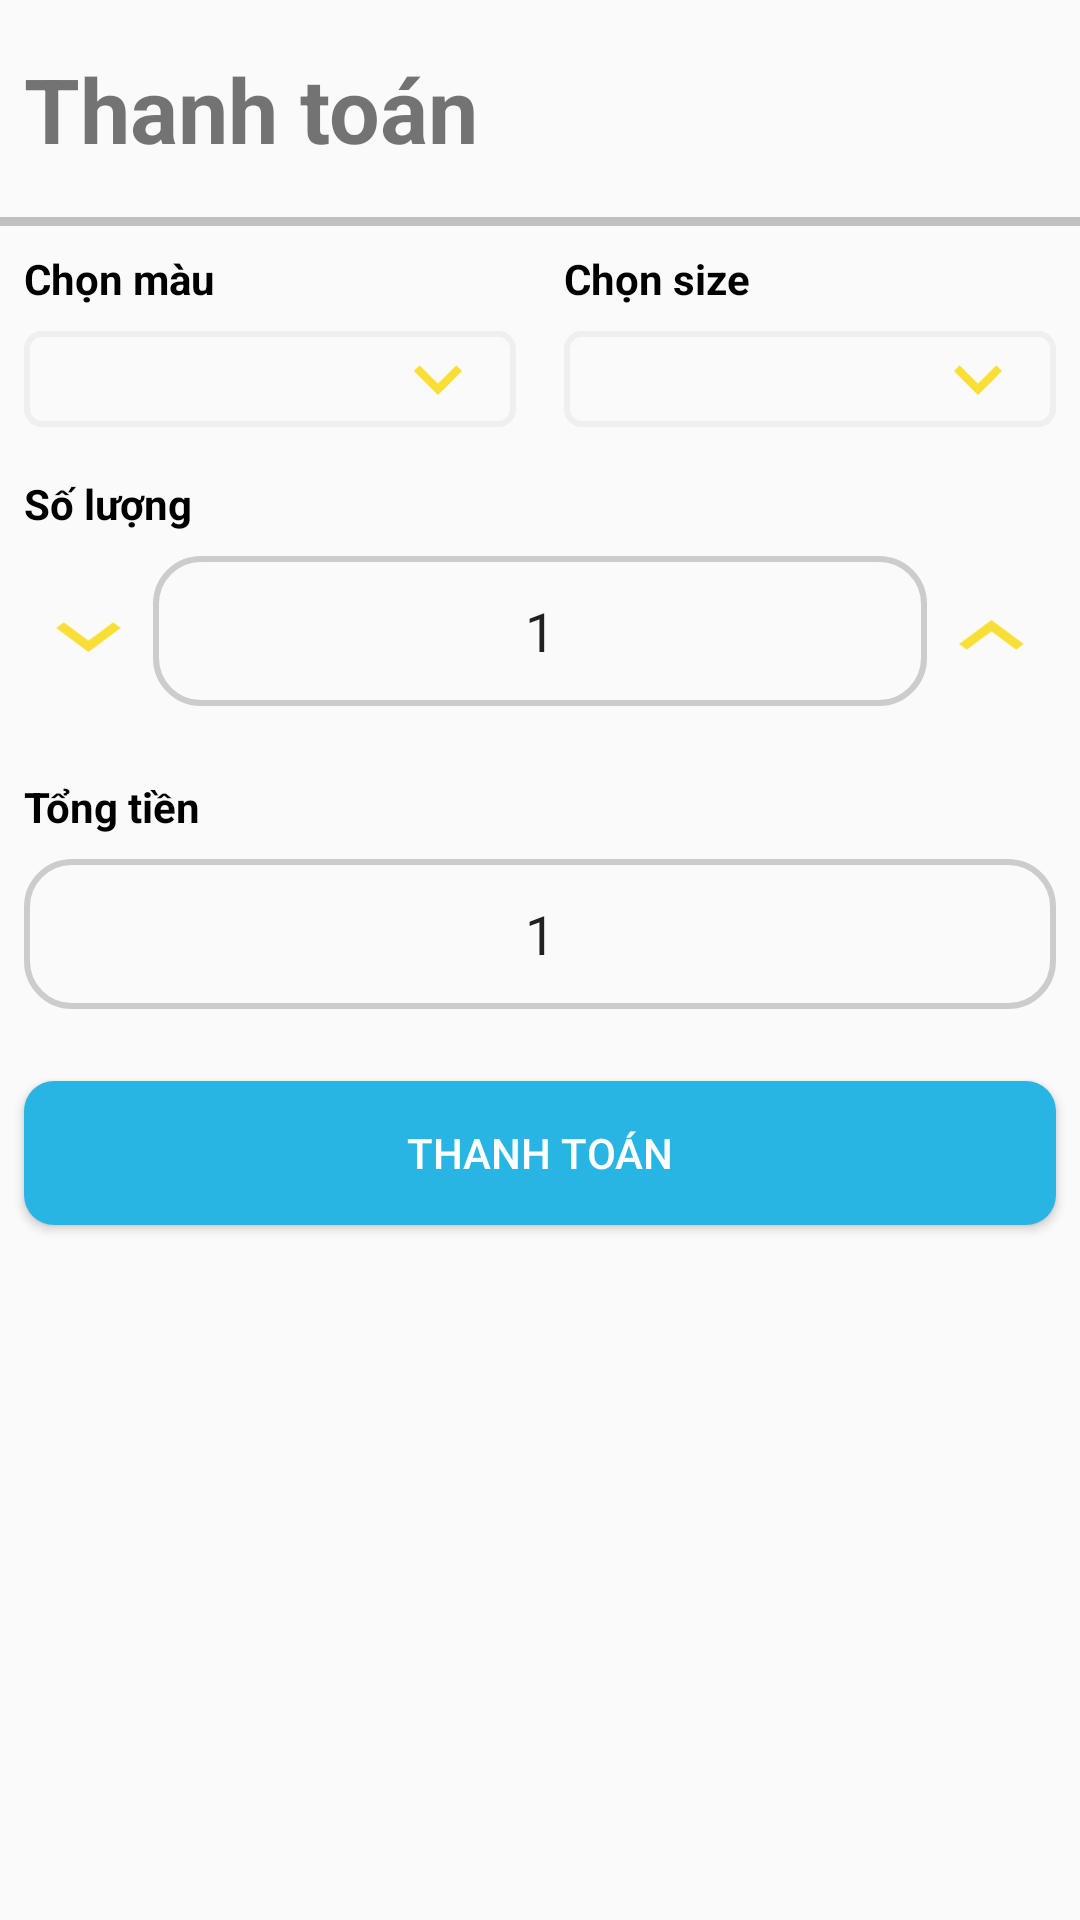

Icons on this 1080px×1920px Android screen, each with its box as (x1, y1, x2, y2):
collapse: (959, 620, 1024, 650)
expand: (56, 622, 121, 652)
